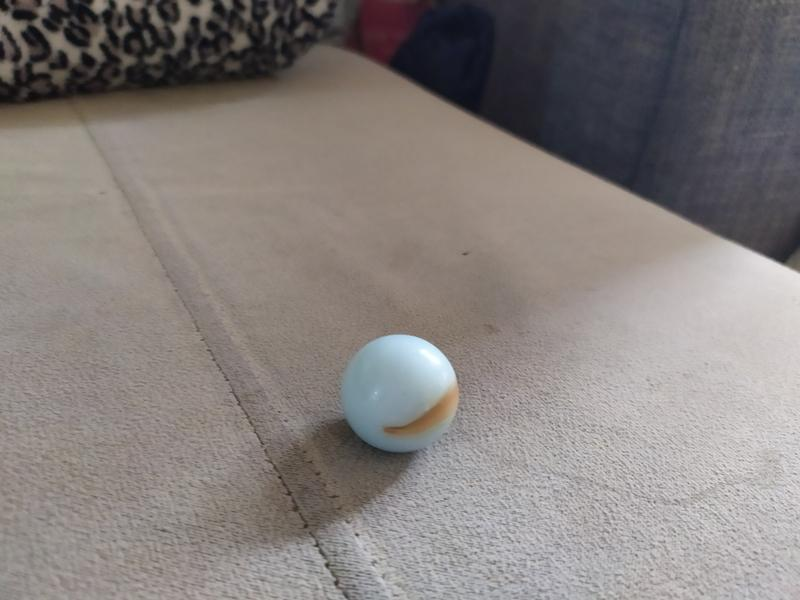Warning: (337, 332, 462, 456)
